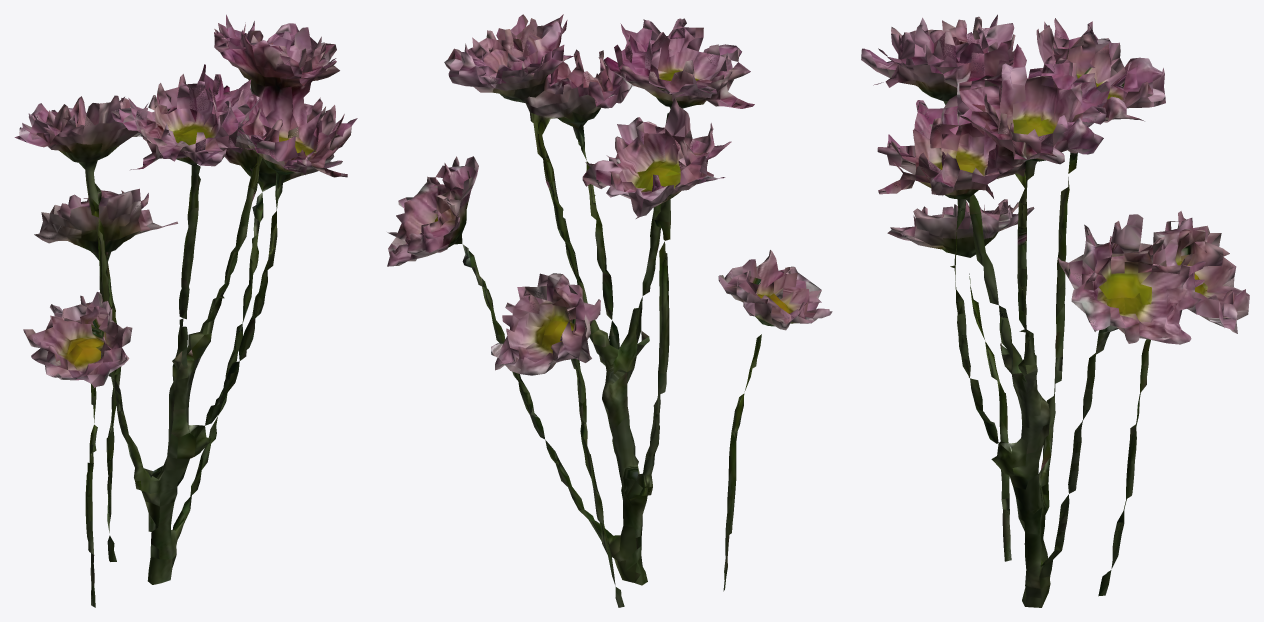
3 renders of one model, left to right at view 1: azimuth 30°, elevation 25°; view 2: azimuth 150°, elevation 25°; view 3: azimuth 270°, elevation 25°, orthographic. The views are drawn at different scales.
Parts seen in each view (by area): view 1: 3e1b7077; view 2: 3e1b7077; view 3: 3e1b7077.
Part boxes in pixels (x1,y1,x2,y2): 3e1b7077: (14,14,357,607); 3e1b7077: (387,14,832,607); 3e1b7077: (861,14,1249,607).
Bounding box in the file's own units: 0.0875 × 0.1235 × 0.0722.
1 material, 1 textured.
